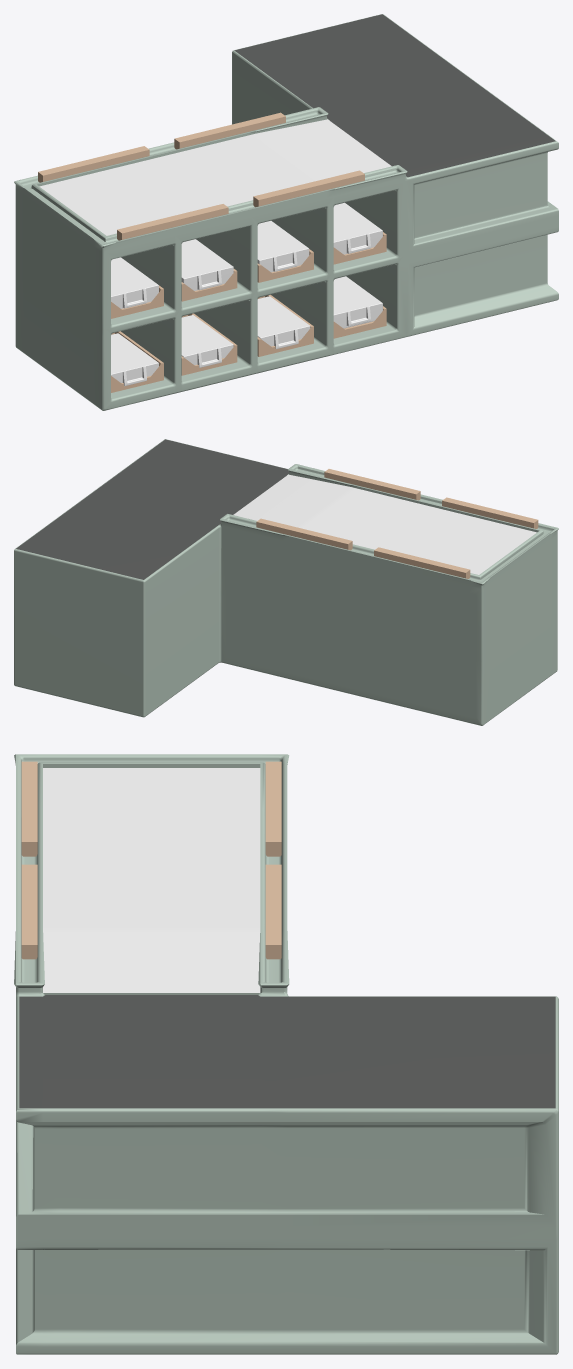
File: CheckoutCounter.fbx
3 renders of one model, top to bottom at view 1: azimuth 30°, elevation 25°; view 2: azimuth 150°, elevation 25°; view 3: azimuth 270°, elevation 25°, orthographic. The views are drawn at different scales.
Parts seen in each view (by area): view 1: pCube32, pCube55, pCube54, pCube59, pCube58, pCube52, pCube53, pCube56, pCube57, pCube37, pCube72, pCube40 (+9 smaller); view 2: pCube32, pCube71, pCube40, pCube37, pCube72; view 3: pCube32, pCube40, pCube71, pCube37, pCube72.
Boxes of the visible parts, x1=… form: pCube32: x1=14, y1=14, x2=558, y2=410; pCube55: x1=181, y1=239, x2=233, y2=290; pCube54: x1=257, y1=221, x2=309, y2=272; pCube59: x1=257, y1=296, x2=310, y2=349; pCube58: x1=181, y1=315, x2=233, y2=367; pCube52: x1=333, y1=276, x2=382, y2=328; pCube53: x1=333, y1=202, x2=382, y2=254; pCube56: x1=111, y1=257, x2=158, y2=308; pCube57: x1=111, y1=333, x2=158, y2=386; pCube37: x1=253, y1=170, x2=364, y2=207; pCube72: x1=117, y1=204, x2=228, y2=240; pCube40: x1=174, y1=112, x2=285, y2=149; pCube32: x1=14, y1=439, x2=558, y2=725; pCube71: x1=374, y1=547, x2=470, y2=578; pCube40: x1=256, y1=518, x2=352, y2=550; pCube37: x1=324, y1=469, x2=420, y2=500; pCube72: x1=442, y1=497, x2=538, y2=528; pCube32: x1=14, y1=754, x2=558, y2=1354; pCube40: x1=265, y1=864, x2=281, y2=959; pCube71: x1=265, y1=761, x2=281, y2=856; pCube37: x1=21, y1=864, x2=37, y2=959; pCube72: x1=21, y1=761, x2=37, y2=856.
Bounding box in the file's own units: 301 × 108 × 201.
